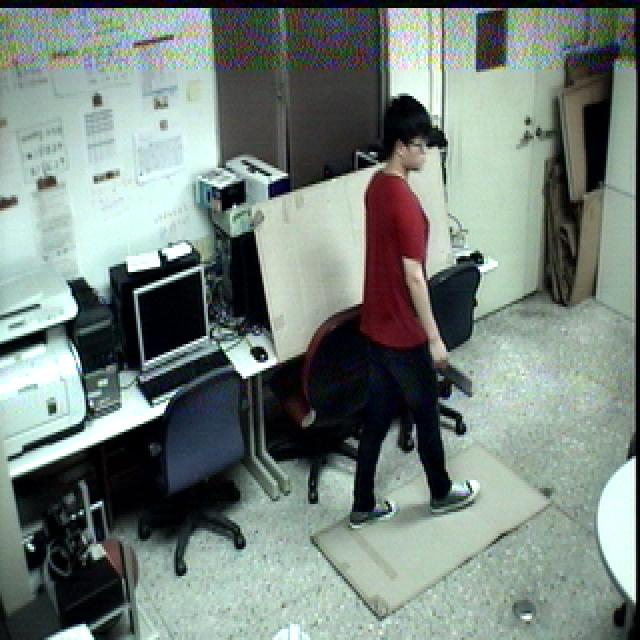stand: (345, 90, 488, 541)
